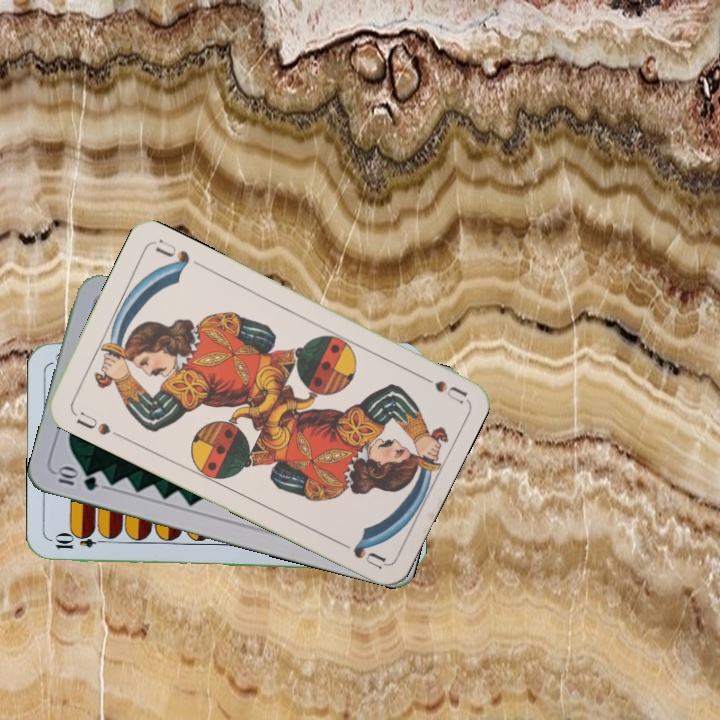E10: (51, 533, 110, 552)
G10: (52, 463, 101, 494)
SU: (411, 368, 468, 406), (69, 407, 124, 440)
